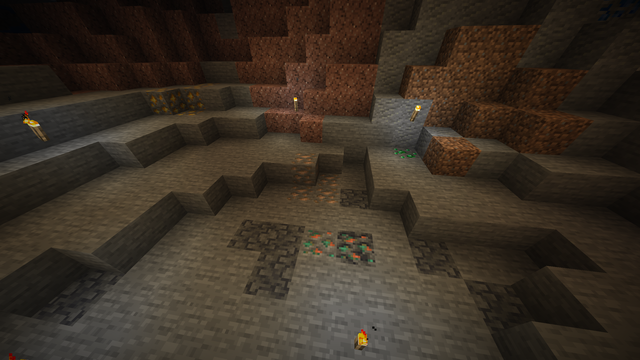copper: (300, 226, 376, 265)
emerald: (394, 144, 419, 160)
gold: (145, 82, 214, 116)
iron: (285, 152, 341, 208)
